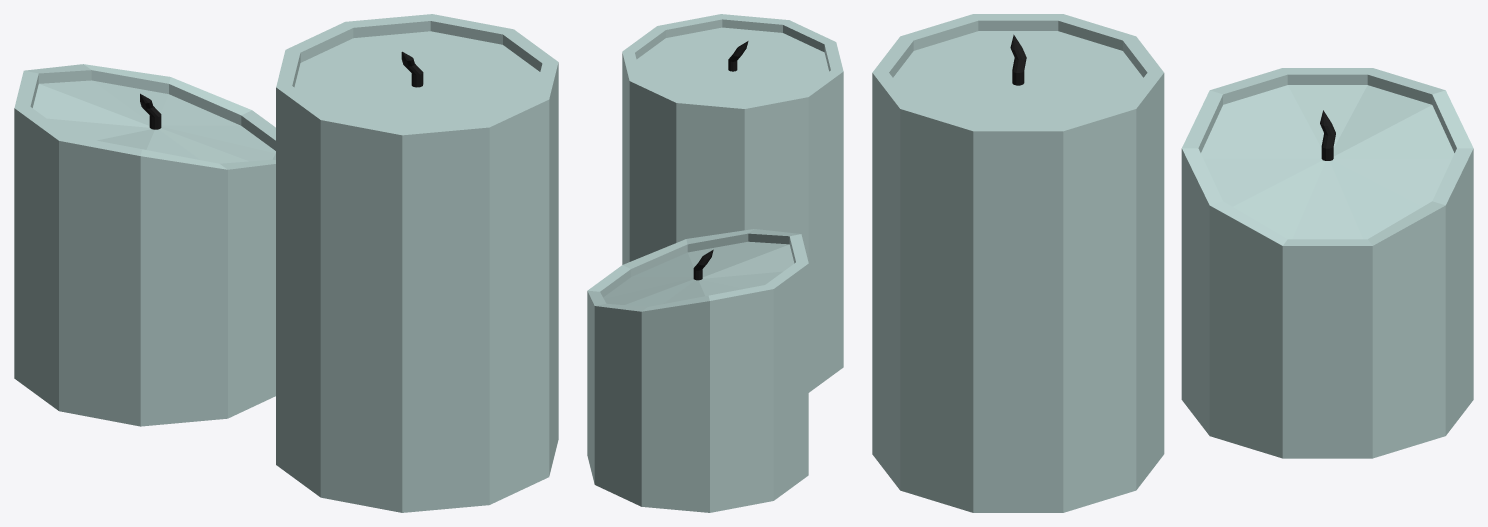
Rendered from candles.fbx.
3 views of the same model, side by side, from view 1: azimuth 30°, elevation 25°; view 2: azimuth 150°, elevation 25°; view 3: azimuth 270°, elevation 25° (orthographic). The views are drawn at different scales.
Visible parts, largest first — view 1: Circle, Circle.001; view 2: Circle.001, Circle; view 3: Circle, Circle.001.
Boxes of the visible parts, bbox=[...] form: Circle: bbox=[276, 14, 558, 512]; Circle.001: bbox=[14, 64, 275, 426]; Circle.001: bbox=[587, 229, 808, 512]; Circle: bbox=[622, 14, 843, 392]; Circle: bbox=[872, 14, 1164, 512]; Circle.001: bbox=[1181, 68, 1473, 458].
Size of the model in its own units: 277 by 311 by 412.
